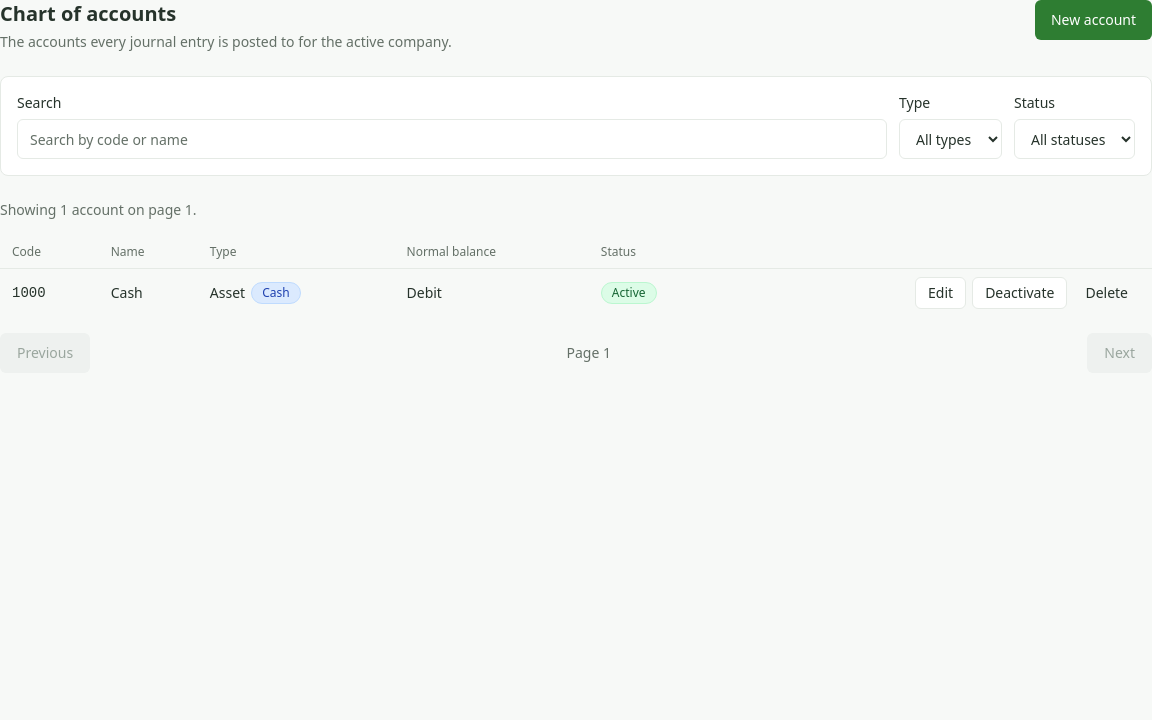
Test: AccountsView › opens the deactivate confirmation for a row
Step 1. Click the button "Deactivate" → (1020, 293), box [972, 277, 1067, 309]
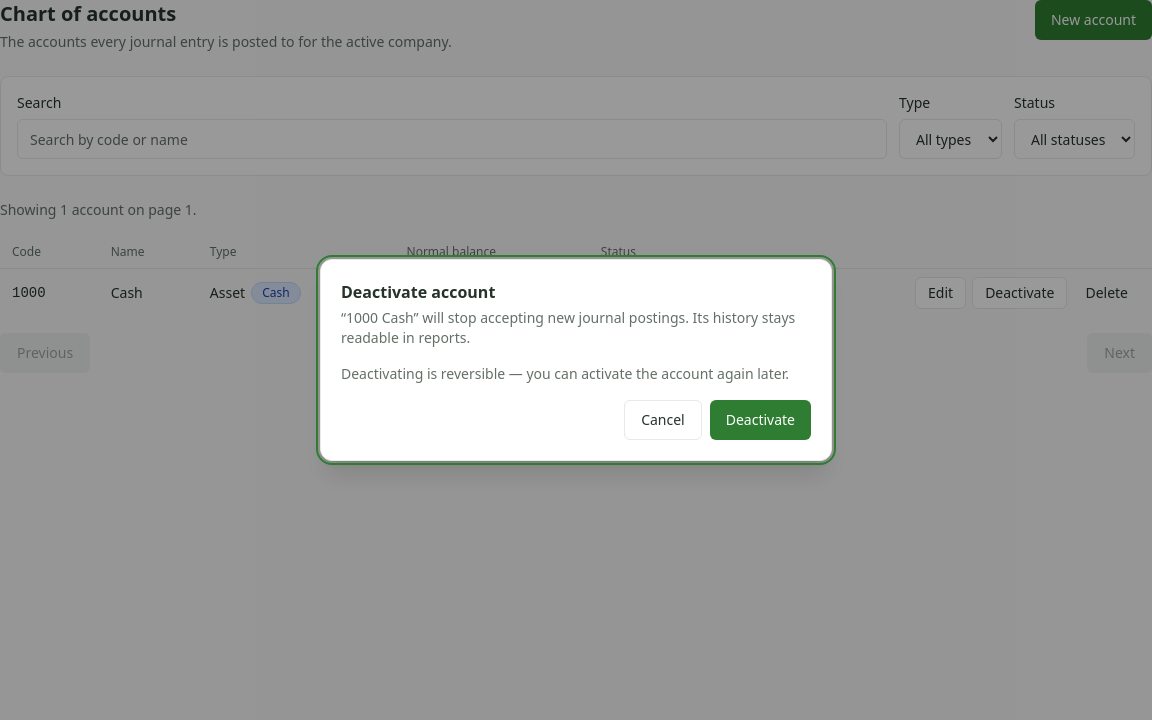
Check: the dialog "Deactivate account" is shown, box [320, 259, 832, 461]
Check: the text "will stop accepting new journal postings" is shown, box [341, 308, 795, 347]
